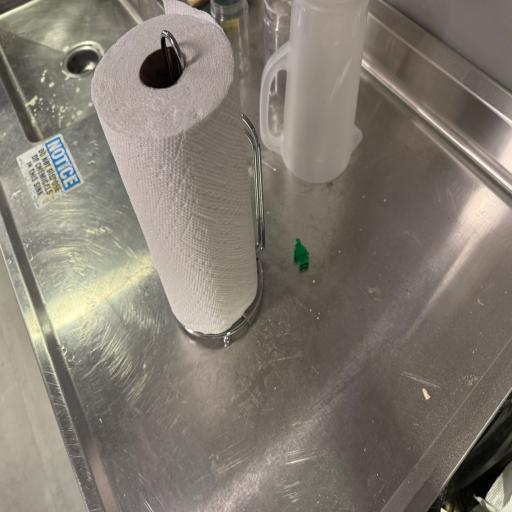Lego-Dude: (294, 238, 309, 270)
